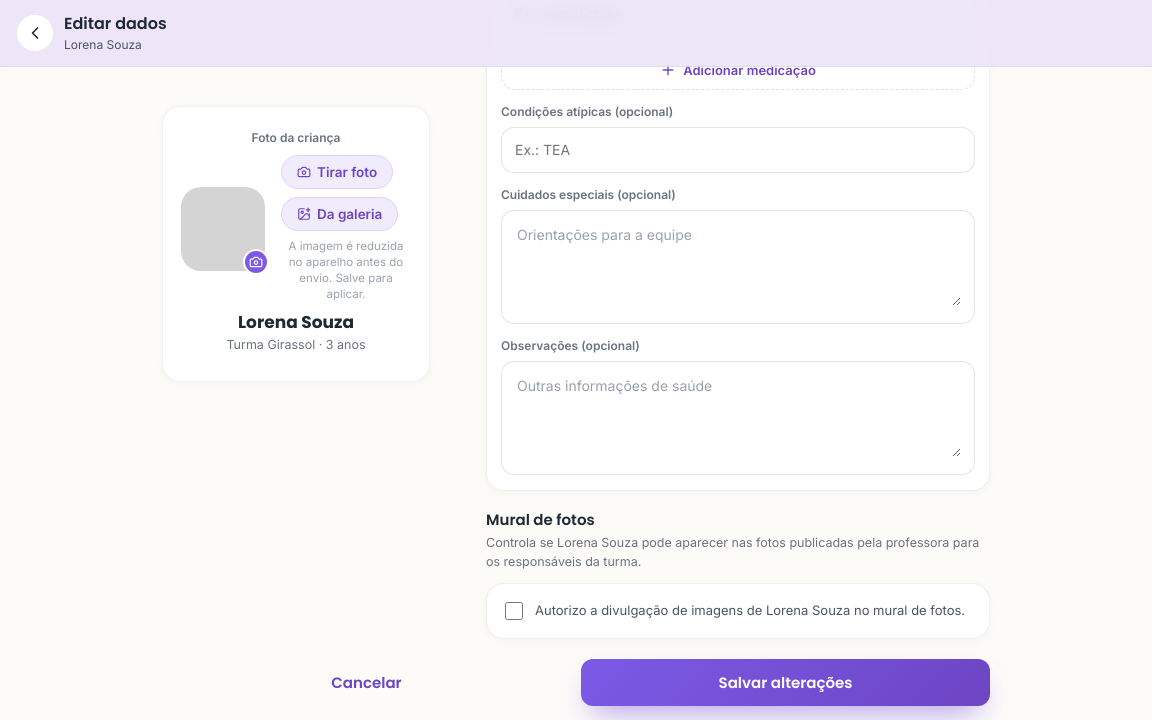
Test: EditarCriancaScreen › mostra o erro da API e mantém o formulário
(page scrolled)
Click the button "Salvar alterações".
click(786, 682)  # box x1=581 y1=659 x2=990 y2=706
(page scrolled)
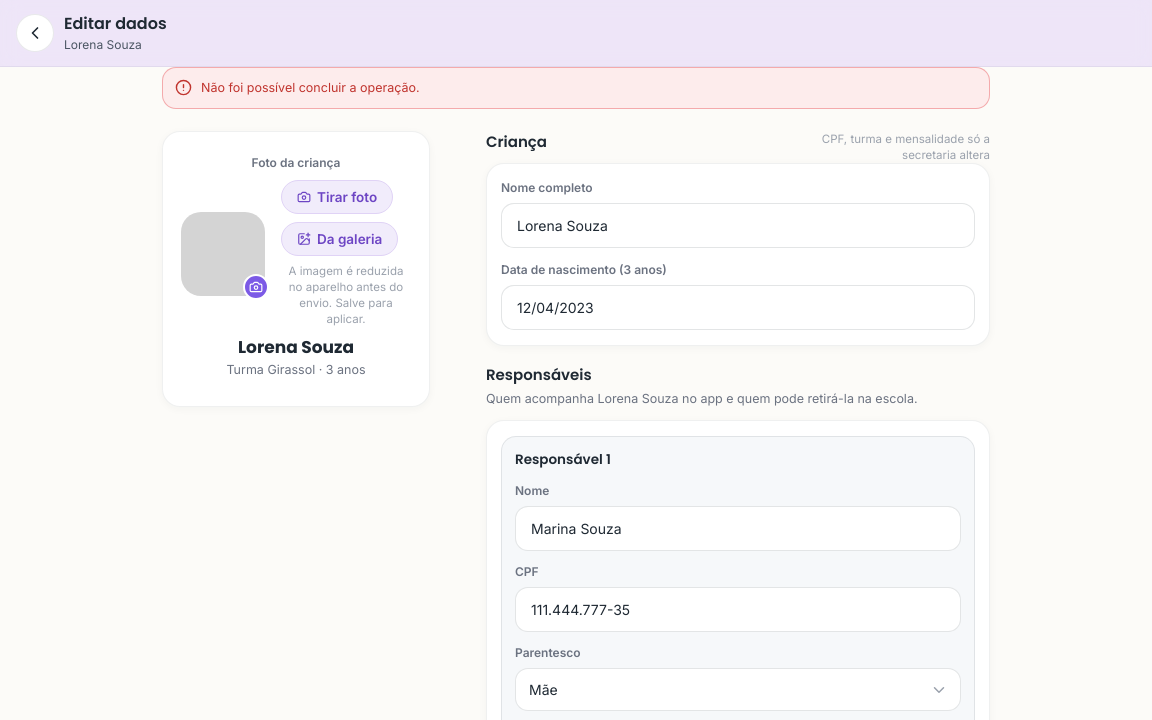
Check: the field showing "Lorena Souza" is shown, box x1=515 y1=216 x2=961 y2=235
Check: the message "Não foi possível concluir a operação." is shown, box x1=162 y1=67 x2=990 y2=109
